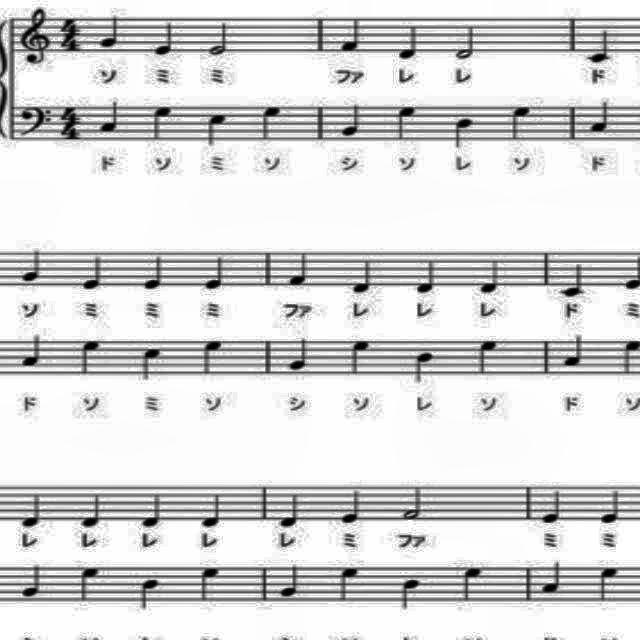Bass-clef: (18, 102, 58, 140)
Half-note: (400, 478, 428, 526), (204, 16, 232, 60), (455, 21, 481, 64)
Quarter-note: (411, 250, 443, 298), (336, 483, 368, 529), (350, 248, 378, 300), (142, 250, 170, 298), (472, 335, 504, 377), (148, 102, 178, 146), (475, 252, 505, 296), (335, 562, 365, 606), (584, 27, 616, 68), (286, 330, 314, 376), (18, 488, 46, 534), (594, 561, 622, 607), (200, 251, 232, 291), (558, 260, 590, 300), (16, 562, 48, 602), (95, 12, 125, 54), (395, 22, 425, 64), (258, 101, 288, 143), (275, 489, 305, 531), (76, 334, 104, 378), (198, 334, 226, 378), (461, 559, 489, 603), (538, 487, 568, 528), (338, 13, 367, 55), (18, 331, 48, 371), (395, 99, 421, 145), (139, 342, 165, 388), (75, 560, 102, 604), (196, 561, 224, 603), (339, 98, 365, 142), (149, 19, 179, 57), (508, 104, 536, 144), (346, 336, 374, 376), (559, 330, 587, 370), (138, 490, 166, 530), (198, 491, 226, 531), (597, 486, 625, 526), (276, 562, 304, 602), (448, 114, 479, 150), (80, 484, 104, 530), (204, 109, 232, 148), (586, 98, 614, 136), (538, 559, 566, 597), (79, 254, 105, 294), (20, 243, 44, 285), (286, 250, 312, 288), (96, 101, 124, 135), (412, 351, 440, 384), (140, 575, 164, 613), (401, 575, 424, 613)
Treble-clef: (16, 6, 56, 70)
